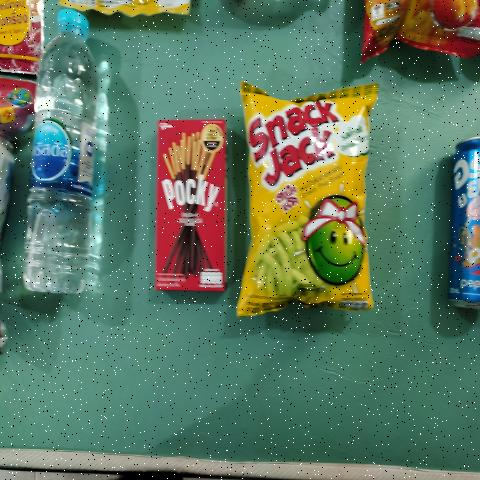crystal: (24, 11, 104, 311)
pokki: (161, 117, 229, 293)
snack_jack: (256, 95, 364, 304)
